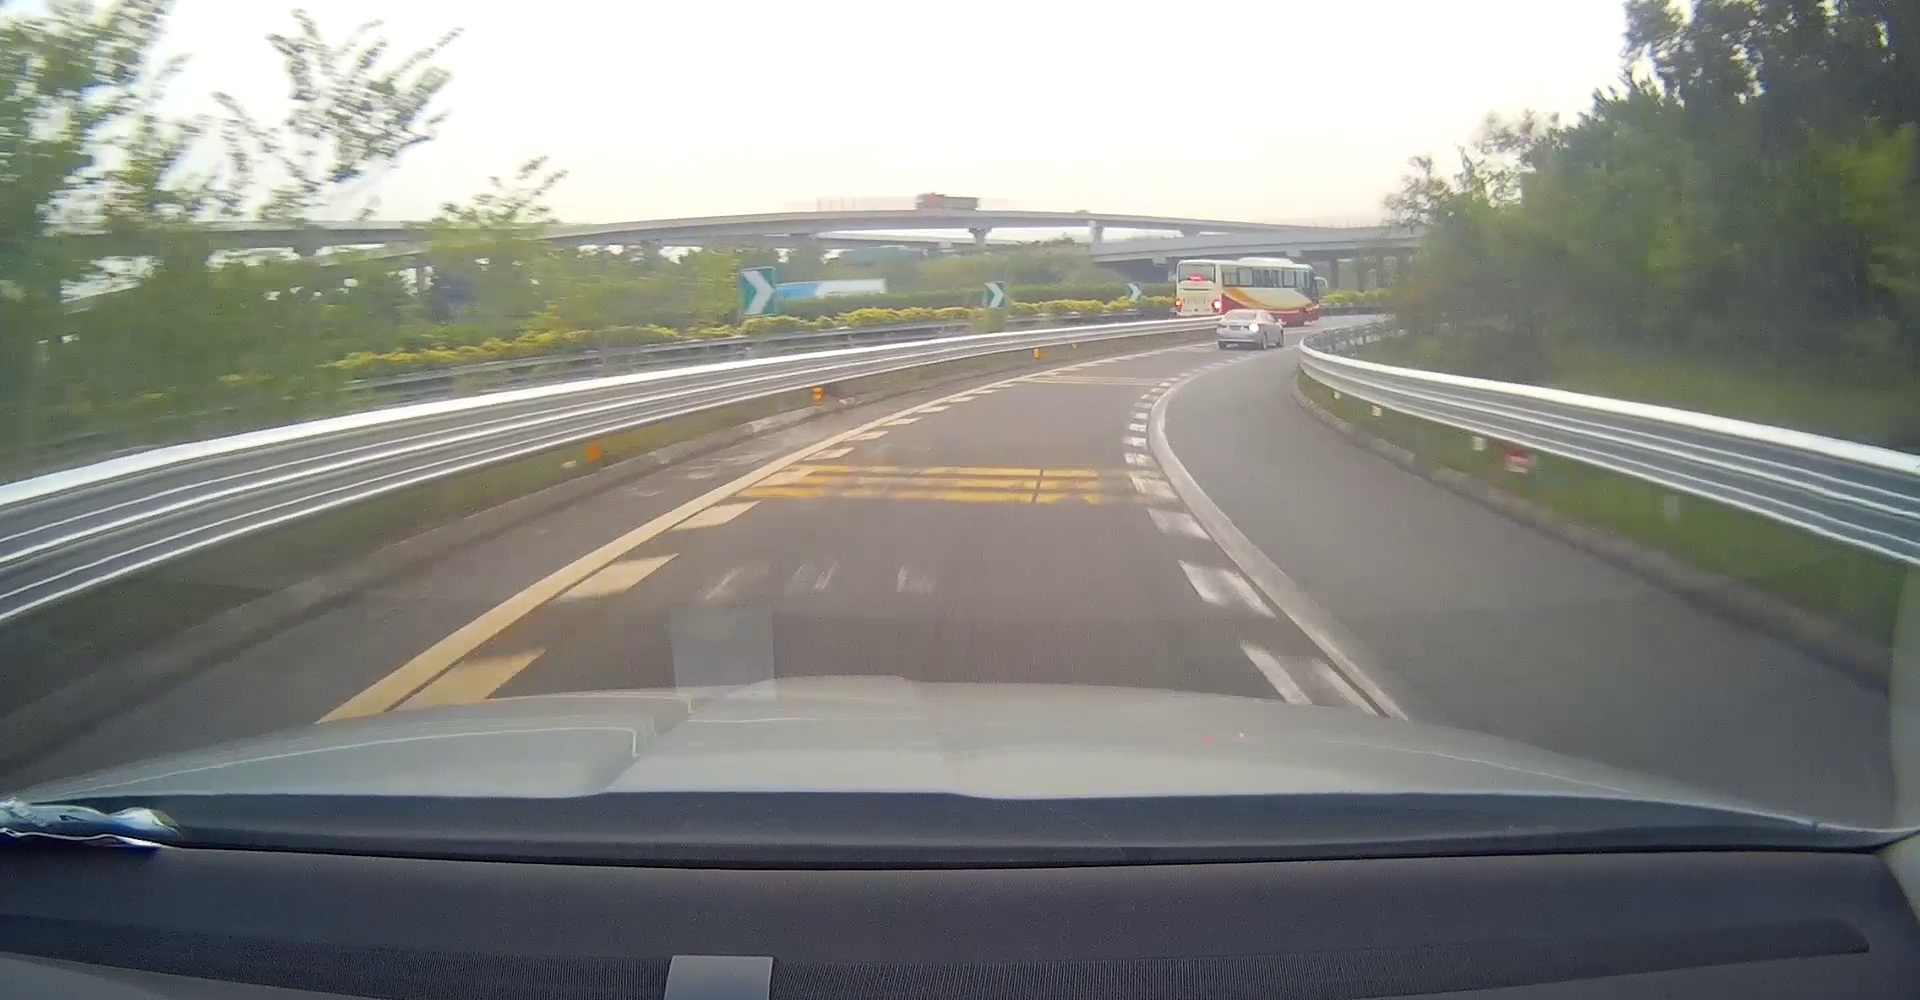L_light: (1217, 324, 1225, 329)
R_light: (1243, 324, 1261, 329)
T_light: (1239, 310, 1250, 312)
day-right: (1215, 308, 1263, 349)
